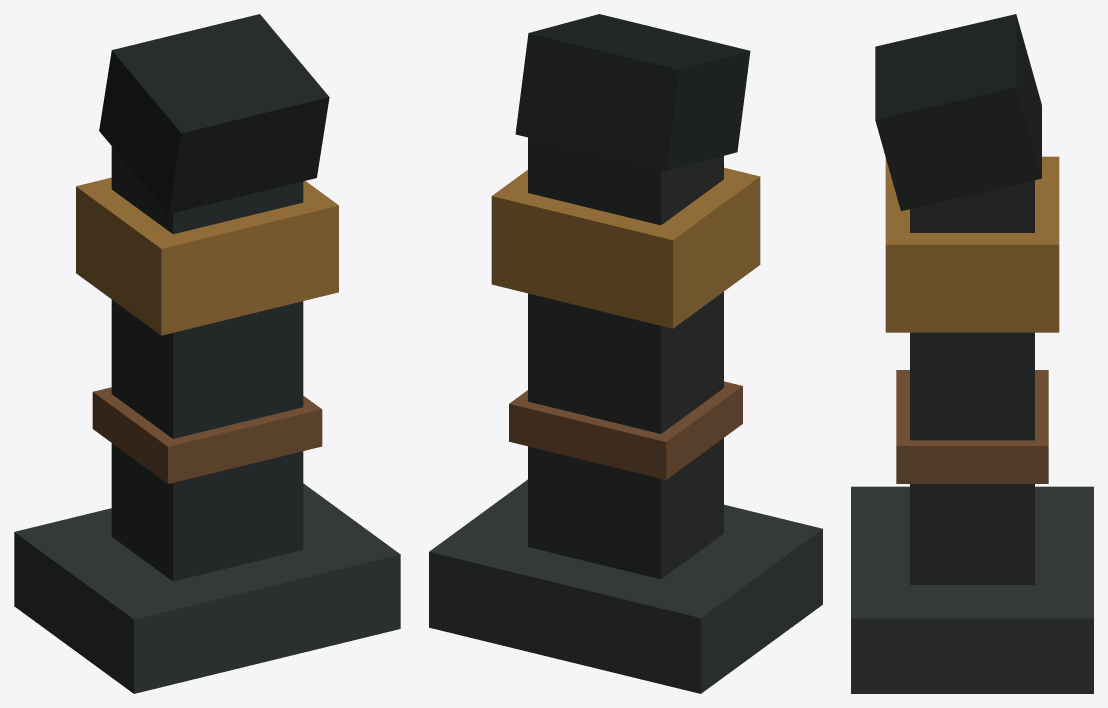
File: w3_deck_post.glb
The picture shows the model from 3 angles, left to right: view 1: azimuth 30°, elevation 25°; view 2: azimuth 150°, elevation 25°; view 3: azimuth 270°, elevation 25°; orthographic projection.
Visible parts, largest first — view 1: DeckPost; view 2: DeckPost; view 3: DeckPost.
Part boxes in pixels (x1=…): DeckPost: x1=14, y1=14, x2=400, y2=693; DeckPost: x1=429, y1=14, x2=822, y2=693; DeckPost: x1=851, y1=14, x2=1093, y2=693.
Bounding box in the file's own units: 0.9 × 1.84 × 0.7.
